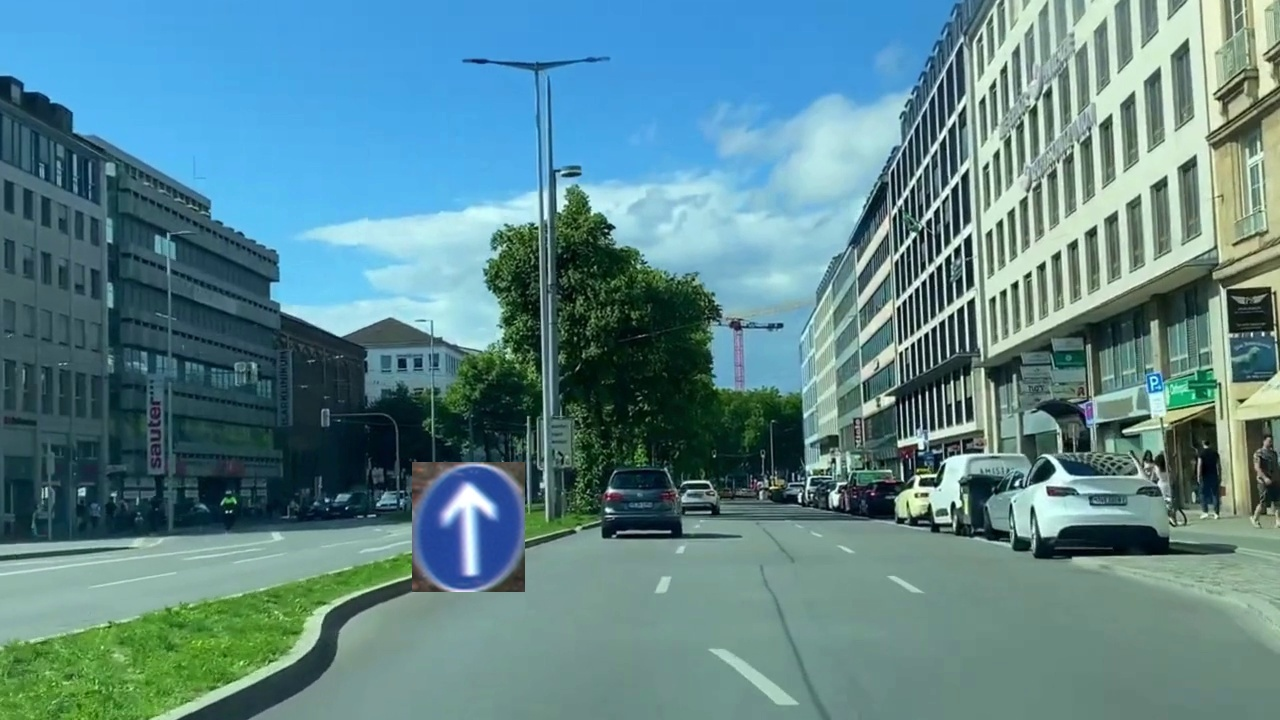Ahead only: (412, 462, 525, 592)
